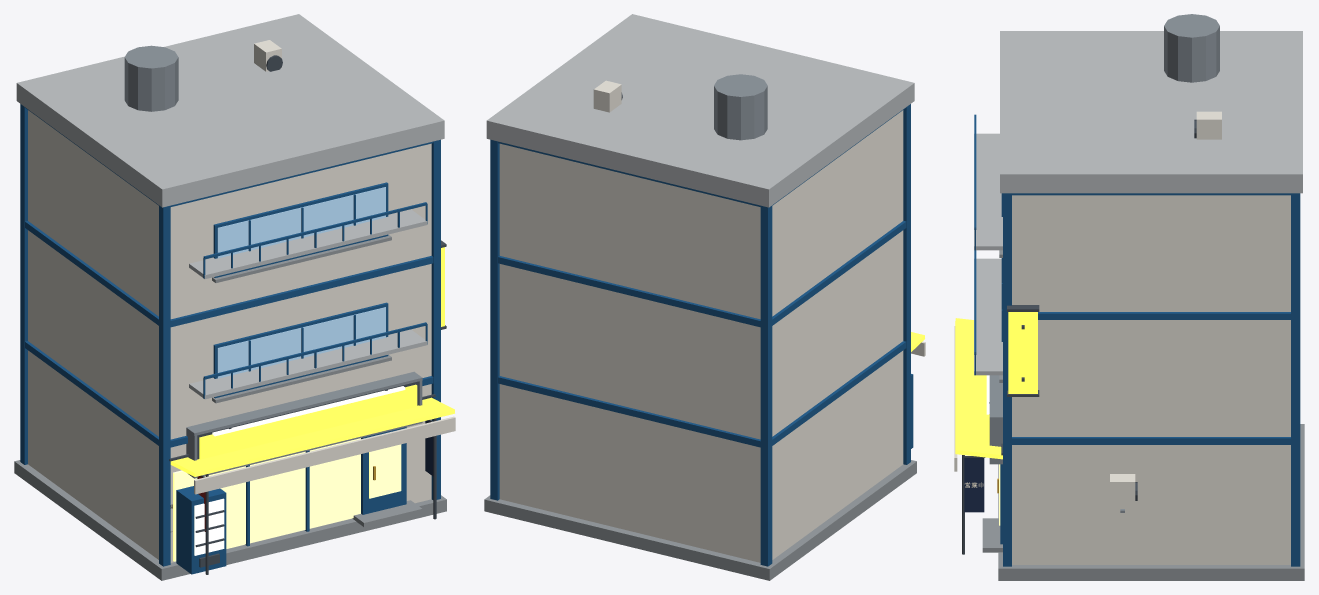
Rendered from shop_drugstore_3f.glb.
3 renders of one model, left to right at view 1: azimuth 30°, elevation 25°; view 2: azimuth 150°, elevation 25°; view 3: azimuth 270°, elevation 25°, orthographic. The views are drawn at different scales.
Parts seen in each view (by area): view 1: body.029, parapet.013, shop_glass.020, base.029, awning.010, win_glass.046, win_glass.045, sign_face.028, post.136, awning_lip.010, balcony_slab.039, balcony_slab.037 (+20 smaller); view 2: body.029, parapet.013, base.029, post.137, beam.074, beam.073, post.139, water_tank.014, post.136, beam.075, ac_body.044; view 3: body.029, parapet.013, base.029, awning.010, post.139, water_tank.014, balcony_slab.037, balcony_slab.039, post.138, blade_board.006, beam.073, beam.074 (+6 smaller).
Boxes of the visible parts, x1=… form: body.029: x1=28, y1=110, x2=431, y2=562; parapet.013: x1=16, y1=14, x2=444, y2=207; shop_glass.020: x1=173, y1=438, x2=360, y2=561; base.029: x1=14, y1=460, x2=446, y2=580; awning.010: x1=170, y1=397, x2=454, y2=476; win_glass.046: x1=217, y1=187, x2=385, y2=258; win_glass.045: x1=217, y1=307, x2=385, y2=378; sign_face.028: x1=199, y1=384, x2=417, y2=459; post.136: x1=159, y1=205, x2=170, y2=566; awning_lip.010: x1=194, y1=416, x2=455, y2=494; balcony_slab.039: x1=189, y1=209, x2=427, y2=278; balcony_slab.037: x1=189, y1=329, x2=427, y2=399; body.029: x1=499, y1=110, x2=903, y2=562; parapet.013: x1=486, y1=14, x2=914, y2=207; base.029: x1=484, y1=460, x2=916, y2=580; post.137: x1=760, y1=205, x2=772, y2=566; beam.074: x1=498, y1=221, x2=906, y2=327; beam.073: x1=498, y1=341, x2=906, y2=447; post.139: x1=490, y1=139, x2=499, y2=500; water_tank.014: x1=714, y1=74, x2=767, y2=140; post.136: x1=903, y1=104, x2=910, y2=464; beam.075: x1=498, y1=107, x2=906, y2=206; ac_body.044: x1=593, y1=80, x2=621, y2=112; body.029: x1=1012, y1=195, x2=1290, y2=564; parapet.013: x1=1000, y1=31, x2=1302, y2=193; base.029: x1=998, y1=424, x2=1304, y2=580; awning.010: x1=955, y1=318, x2=1002, y2=459; post.139: x1=1291, y1=193, x2=1300, y2=566; water_tank.014: x1=1164, y1=14, x2=1219, y2=82; balcony_slab.037: x1=974, y1=258, x2=1002, y2=375; balcony_slab.039: x1=974, y1=133, x2=1002, y2=250; post.138: x1=1003, y1=193, x2=1011, y2=566; blade_board.006: x1=1008, y1=312, x2=1037, y2=393; beam.073: x1=1012, y1=437, x2=1290, y2=444; beam.074: x1=1038, y1=312, x2=1290, y2=319.
Bounding box in the file's own units: 7.84 × 11.05 × 7.75.
